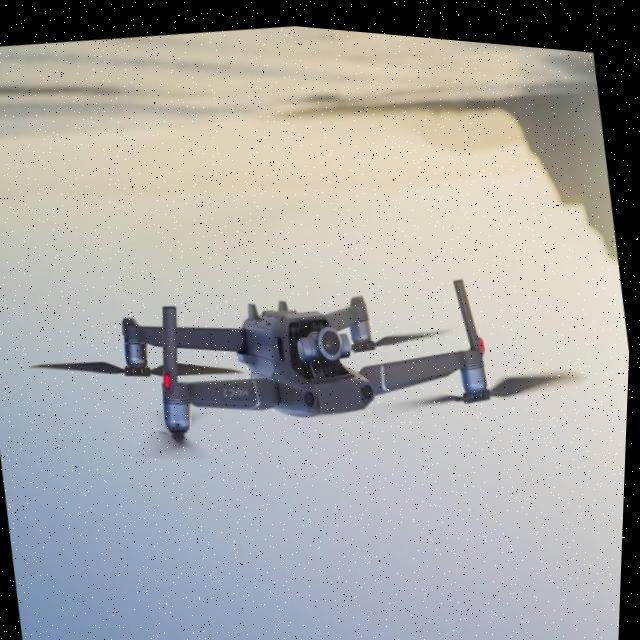drones: (0, 173, 600, 534)
